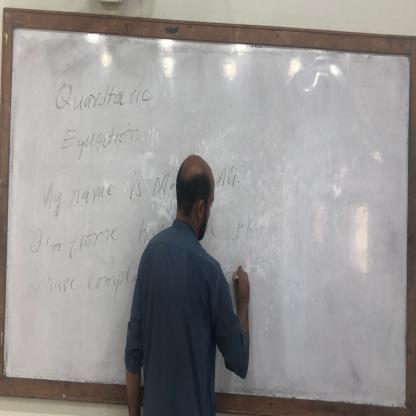Handwritten text: (29, 153, 249, 217), (17, 251, 158, 312), (22, 209, 172, 261), (51, 69, 159, 124), (56, 114, 150, 160)
Lecturer: (139, 147, 253, 416)
Whiteboard: (0, 5, 416, 416)
